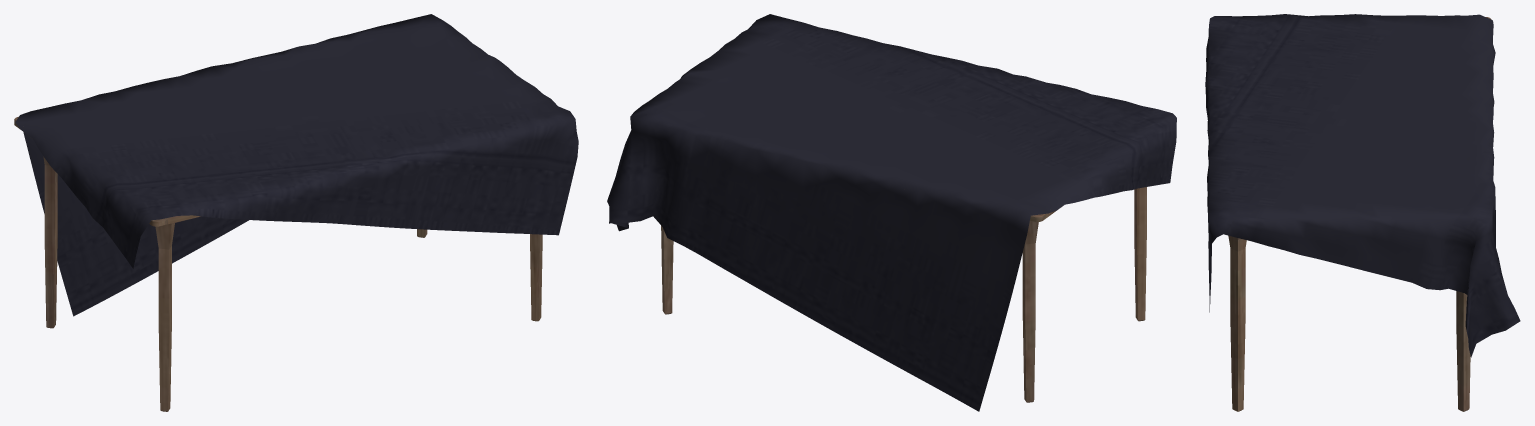
Rendered from table.glb.
3 views of the same model, side by side, from view 1: azimuth 30°, elevation 25°; view 2: azimuth 150°, elevation 25°; view 3: azimuth 270°, elevation 25° (orthographic). The views are drawn at different scales.
Parts seen in each view (by area): view 1: Table, Table.001; view 2: Table, Table.001; view 3: Table, Table.001.
Part boxes in pixels (bbox=[...]): Table: bbox=[15, 14, 578, 316]; Table.001: bbox=[14, 116, 542, 411]; Table: bbox=[607, 14, 1176, 411]; Table.001: bbox=[661, 187, 1146, 402]; Table: bbox=[1205, 14, 1520, 357]; Table.001: bbox=[1228, 17, 1491, 411].
Bounding box in the file's own units: 1.67 × 0.7464 × 0.9927.
2 materials, 2 textured.
